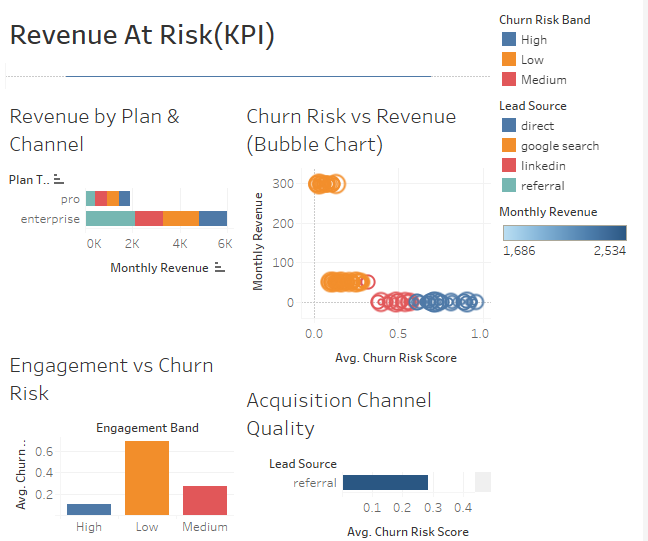

This screenshot's page, from the dashboard's own definition file:
{"tool":"tableau","page":{"name":"Dashboard 2","canvas":[650,860],"ordinal":1},"visuals":[{"type":"worksheet","title":"Revenue at Risk (KPI)","mark":"Automatic","rows":["Calculation_938437607250403332"],"box":[8,12.3,494,132.1]},{"type":"legend","title":"Churn Risk vs Revenue (Bubble Chart)","param":"[federated.1n4q1ey0web5t61a1qxyw0tqzvfi].[none:Calculation_938437607244750851:nk","box":[502,12.3,140,132.1]},{"type":"worksheet","title":"Revenue by Plan & Channel","mark":"Automatic","rows":["plan_type"],"cols":["monthly_revenue"],"box":[8,144.4,236.6,382.4]},{"type":"worksheet","title":"Churn Risk vs Revenue (Bubble Chart)","mark":"Automatic","rows":["monthly_revenue"],"cols":["churn_risk_score"],"box":[244.6,144.4,257.4,436.1]},{"type":"legend","title":"Revenue by Plan & Channel","param":"[federated.1n4q1ey0web5t61a1qxyw0tqzvfi].[none:lead_source:nk]","box":[502,144.4,140,162.8]},{"type":"legend","title":"Acquisition Channel Quality","param":"[federated.1n4q1ey0web5t61a1qxyw0tqzvfi].[sum:monthly_revenue:qk]","box":[502,307.2,140,99.8]},{"type":"worksheet","title":"Engagement vs Churn Risk","mark":"Automatic","rows":["churn_risk_score"],"cols":["Calculation_938437607244386306"],"box":[8,526.8,236.6,321]},{"type":"worksheet","title":"Acquisition Channel Quality","mark":"Automatic","rows":["lead_source"],"cols":["churn_risk_score"],"box":[244.6,580.5,257.4,267.2]}]}

Visuals, with their boxes on the page's 650x860 design canvas (x1, y1, x2, y2). These are canvas units, not pixel positions in the 648x541 screenshot, which may show the page scaled, cropped or inside an application window:
"Revenue at Risk (KPI)" worksheet: box=[8, 12, 502, 144]
"Churn Risk vs Revenue (Bubble Chart)" legend: box=[502, 12, 642, 144]
"Revenue by Plan & Channel" worksheet: box=[8, 144, 245, 527]
"Churn Risk vs Revenue (Bubble Chart)" worksheet: box=[245, 144, 502, 580]
"Revenue by Plan & Channel" legend: box=[502, 144, 642, 307]
"Acquisition Channel Quality" legend: box=[502, 307, 642, 407]
"Engagement vs Churn Risk" worksheet: box=[8, 527, 245, 848]
"Acquisition Channel Quality" worksheet: box=[245, 580, 502, 848]
